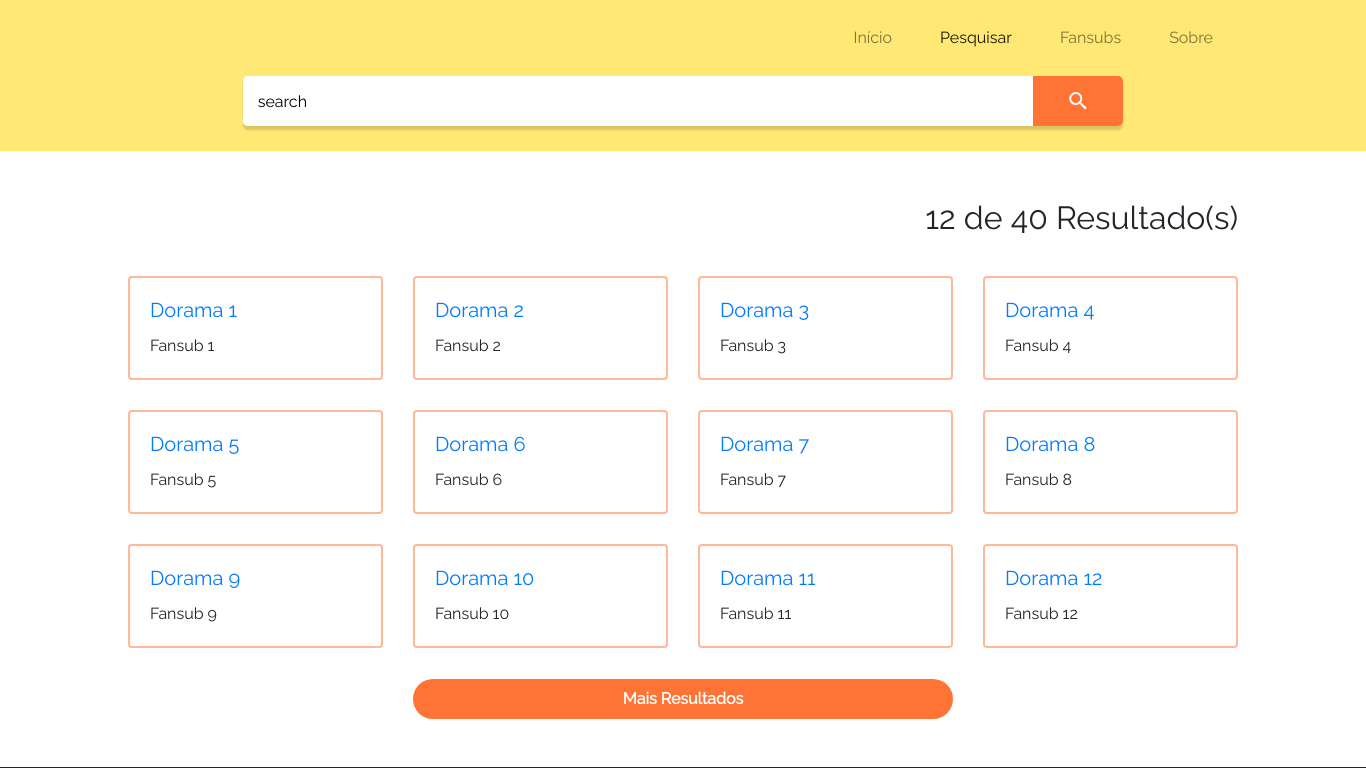
Test: loadMore load error
Click the button "Mais Resultados". click: (683, 699)
box: [413,679,953,719]
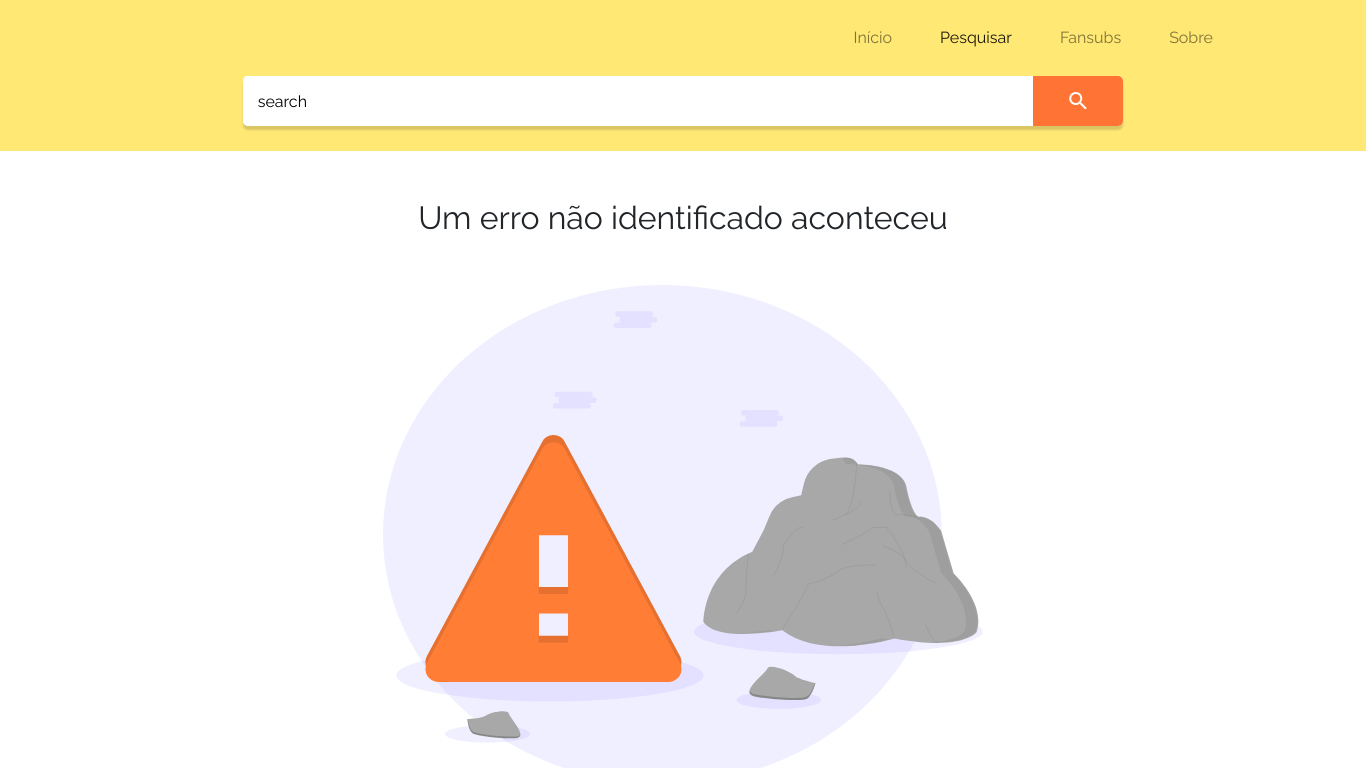
Expected: the heading "Resultado" is gone
Expected: the heading "Um erro não identificado aconteceu" is shown, [418,199,948,236]
